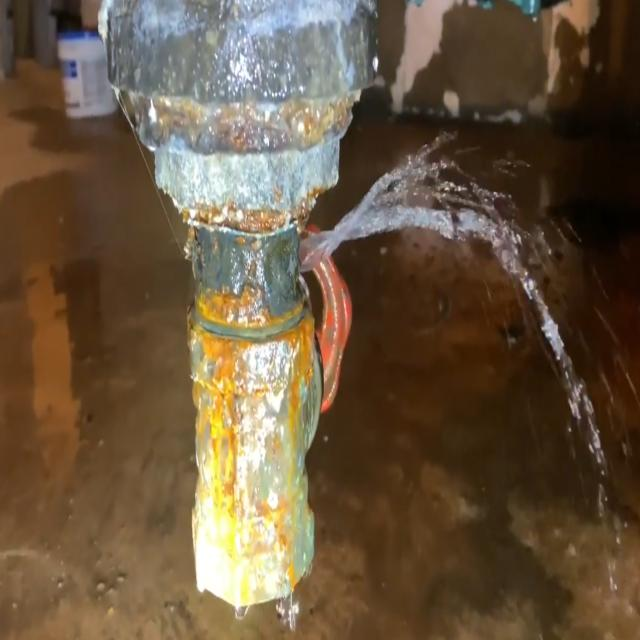leak: (300, 133, 606, 476)
